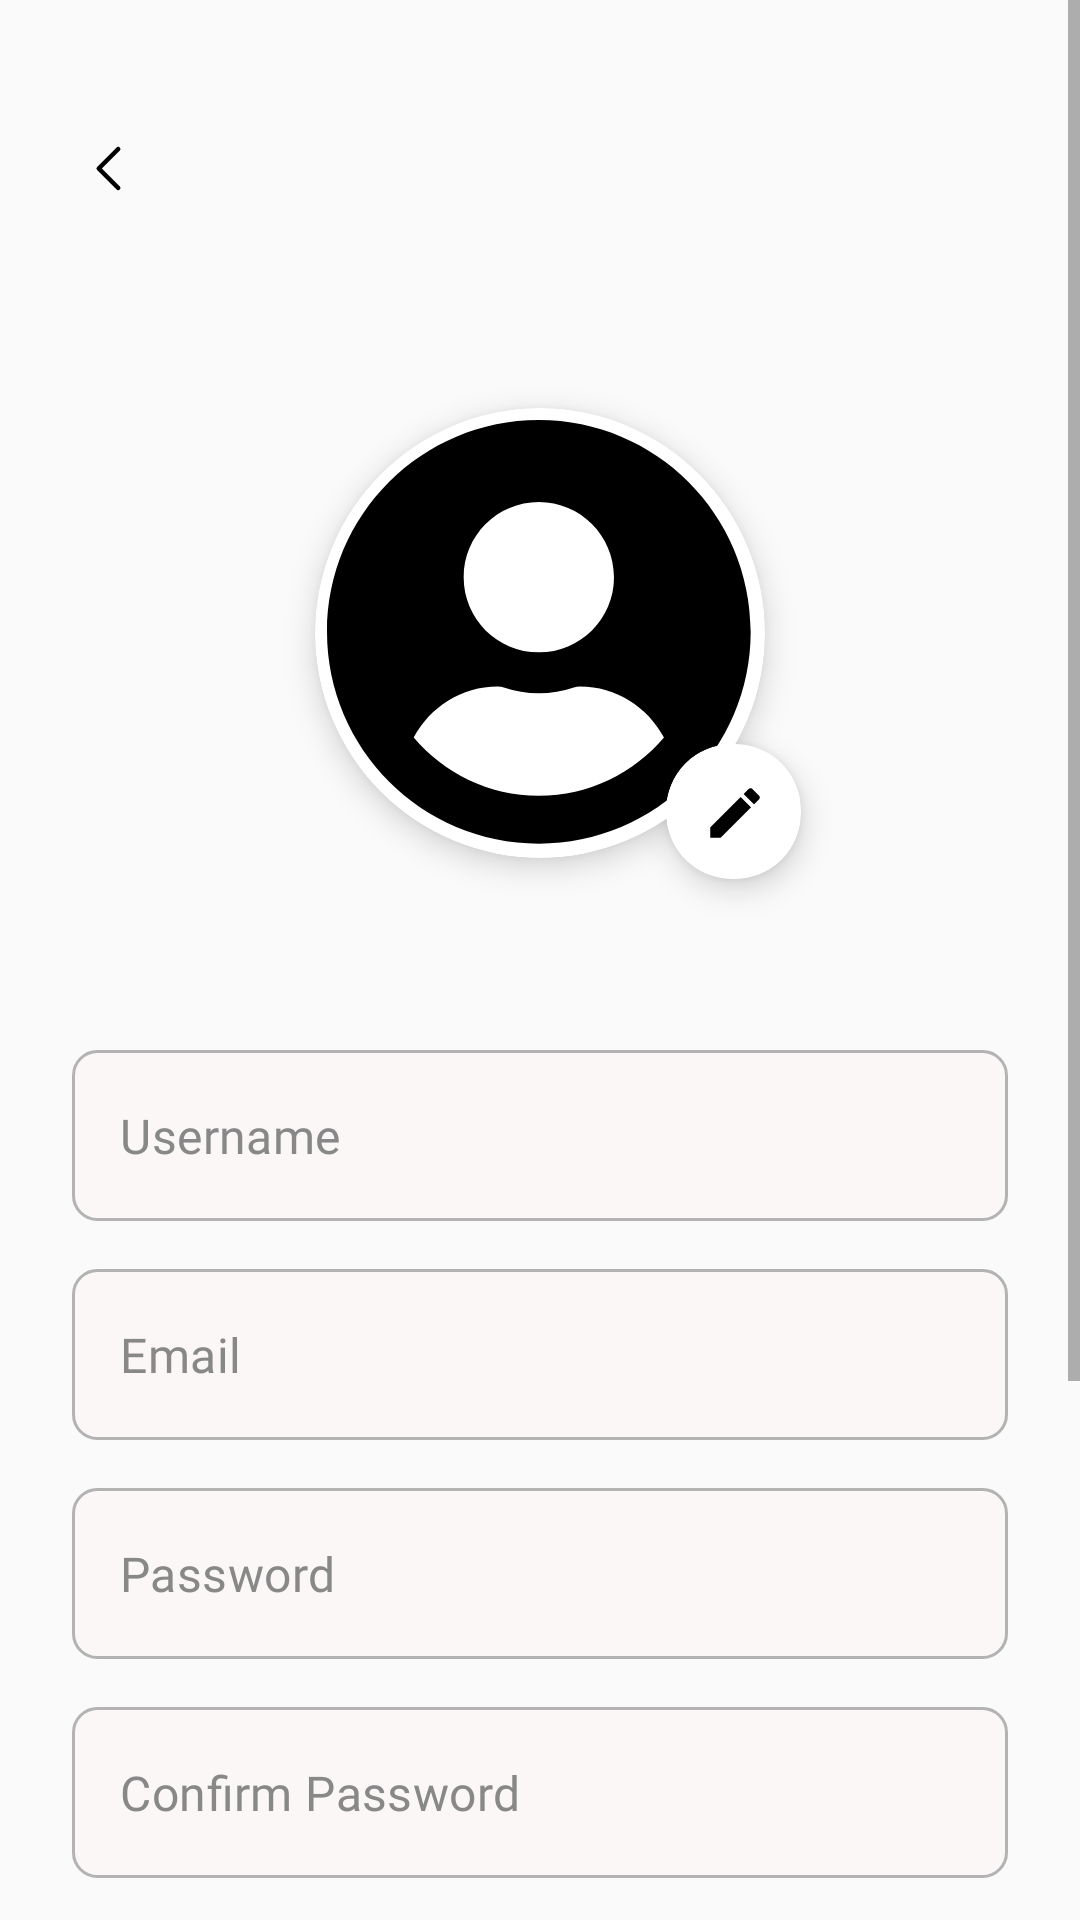

Where icons sit on this 1080*1920 app screen, as [x1,y1,x2,y2]:
Back: [96,146,121,191]
